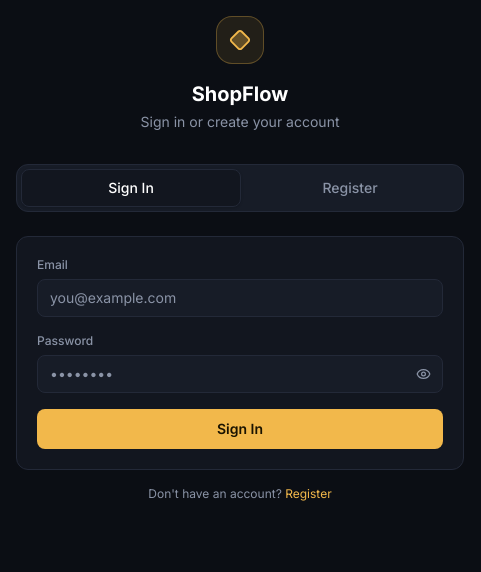
Test: AuthPage — Login › shows error on login failure
The width and height of the screenshot is (481, 572).
Type "bad@b.com" into the field with placeholder "you@example.com" at (240, 298), box [37, 279, 443, 317]
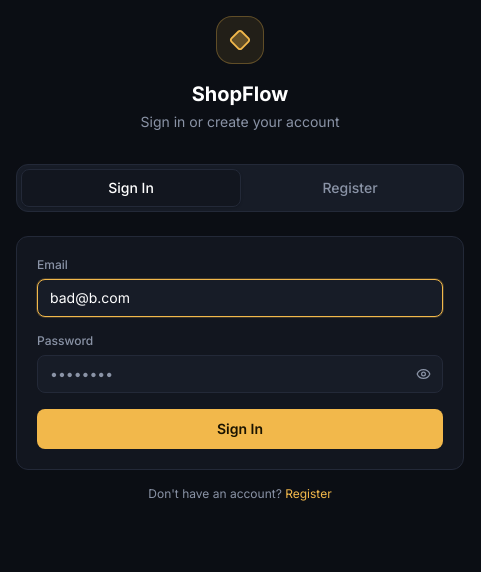
Type "wrongpass" into the password field with placeholder "••••••••" at (240, 374), box [37, 355, 443, 393]
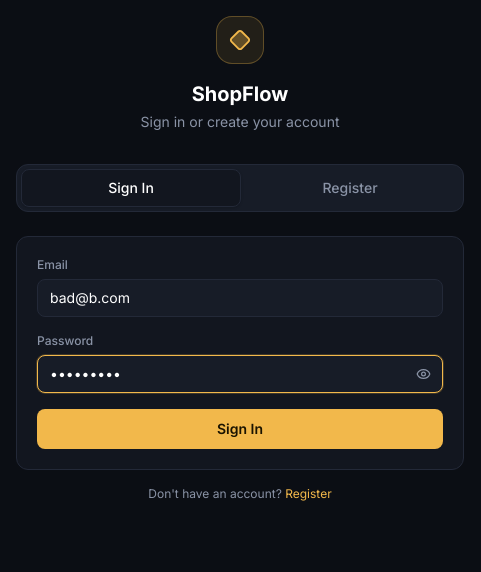
Click the button "Sign In" below "Password" at (240, 429), box [37, 409, 443, 449]
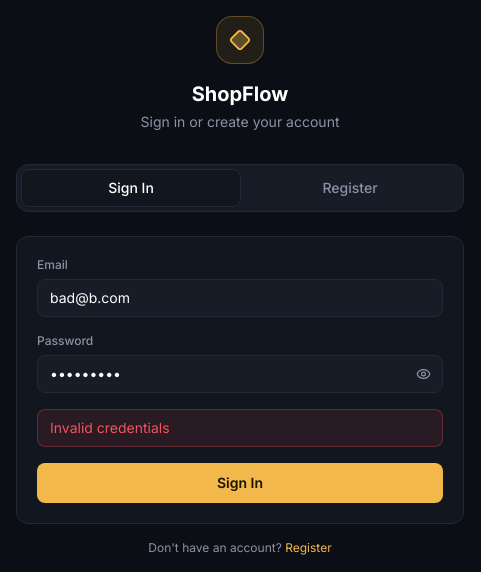
expect the text "Invalid credentials" is shown: met, box [37, 409, 443, 447]
